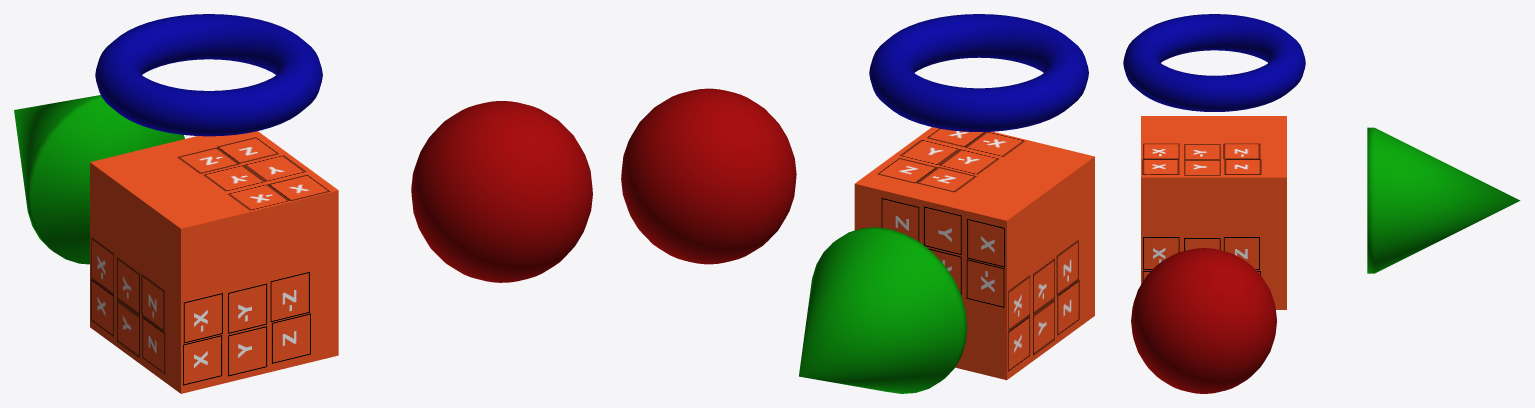
The model's file is MixShapes.obj.
The picture shows the model from 3 angles, left to right: view 1: azimuth 30°, elevation 25°; view 2: azimuth 150°, elevation 25°; view 3: azimuth 270°, elevation 25°; orthographic projection. The views are drawn at different scales.
Parts seen in each view (by area): view 1: Cube, Sphere, Torus, Cone; view 2: Cube, Sphere, Cone, Torus; view 3: Cube, Sphere, Torus, Cone.
Part boxes in pixels (<box>): Cube: <box>90,131,338,393</box>; Sphere: <box>411,101,592,282</box>; Torus: <box>95,14,322,136</box>; Cone: <box>14,95,184,264</box>; Cube: <box>854,127,1094,380</box>; Sphere: <box>621,88,796,264</box>; Cone: <box>799,227,967,393</box>; Torus: <box>869,14,1088,131</box>; Cube: <box>1141,116,1286,309</box>; Sphere: <box>1131,248,1276,393</box>; Torus: <box>1123,14,1305,111</box>; Cone: <box>1367,127,1520,273</box>.
Size of the model in its own units: 5.88 by 3.49 by 5.44.
4 materials, 1 textured.
